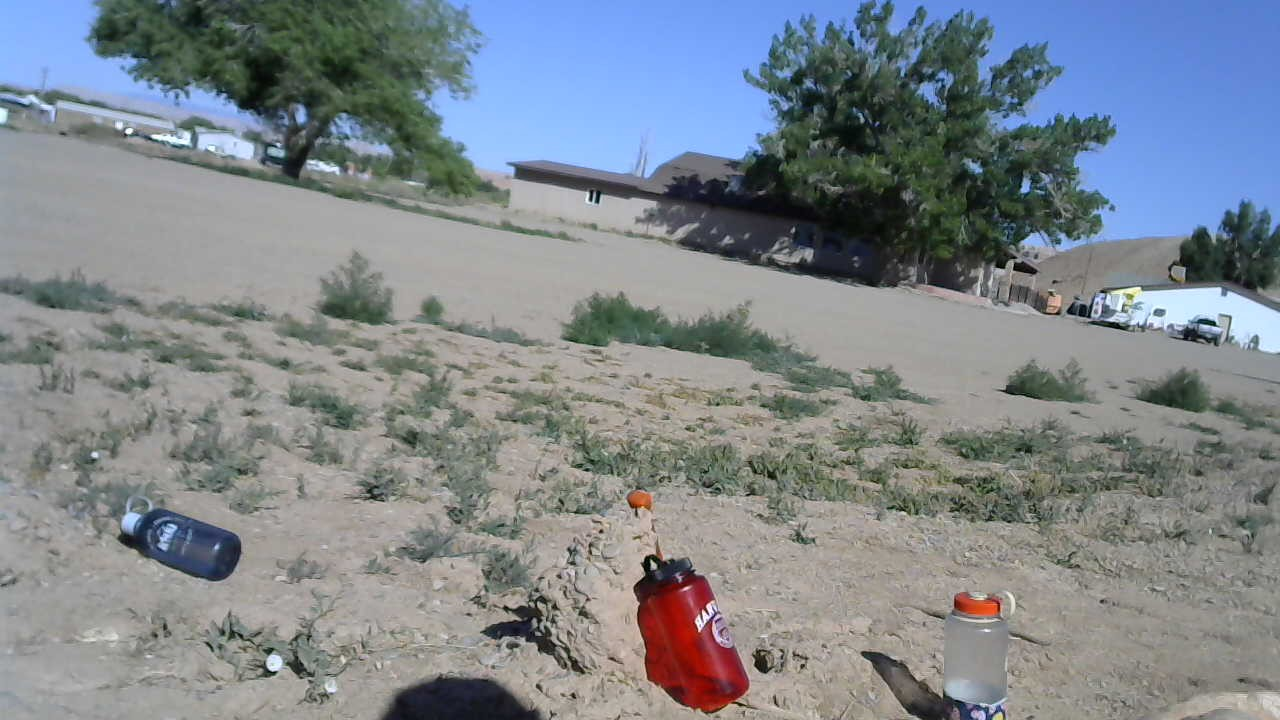bottle: (631, 552, 753, 716), (934, 586, 1019, 720), (118, 491, 243, 582)
hammer: (625, 484, 655, 516)
